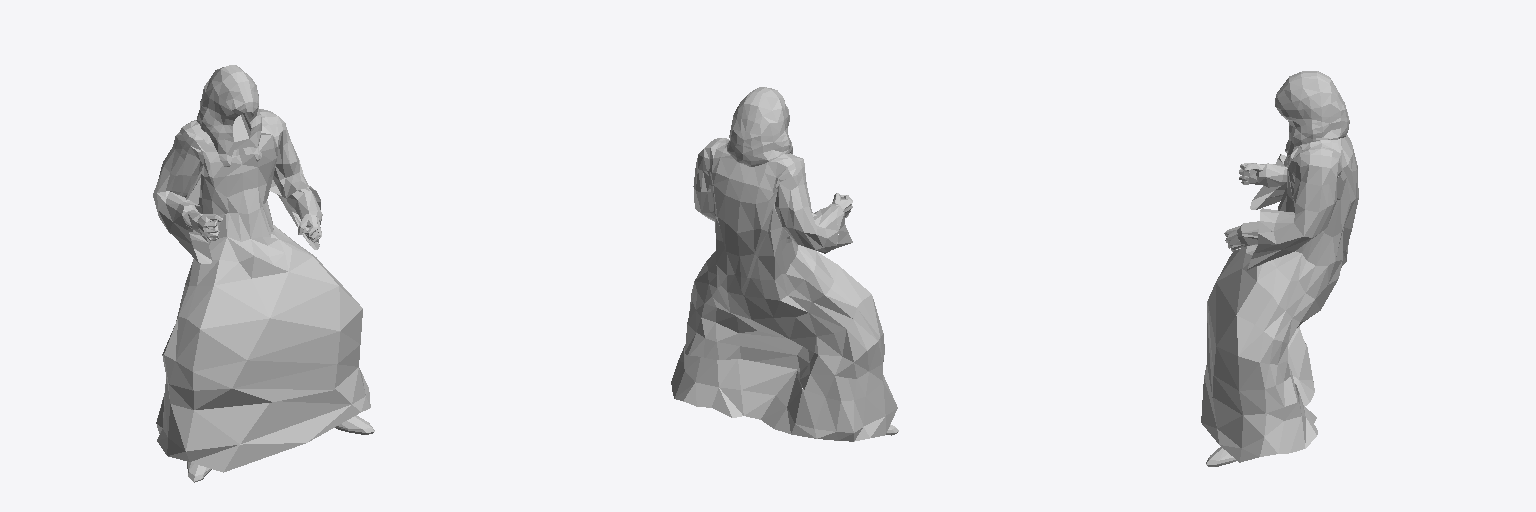
File: Rider_Animate_Grab_Glide_31.obj
The picture shows the model from 3 angles: view 1: azimuth 30°, elevation 25°; view 2: azimuth 150°, elevation 25°; view 3: azimuth 270°, elevation 25°; orthographic projection.
Visible parts, largest first — view 1: dm_nazgulrobe_ride_241108; view 2: dm_nazgulrobe_ride_241108; view 3: dm_nazgulrobe_ride_241108.
Part boxes in pixels (x1,y1,x2,y2): dm_nazgulrobe_ride_241108: (153,65,374,482); dm_nazgulrobe_ride_241108: (671,87,898,441); dm_nazgulrobe_ride_241108: (1201,71,1358,466).
Size of the model in its own units: 0.3986 by 0.662 by 0.264.